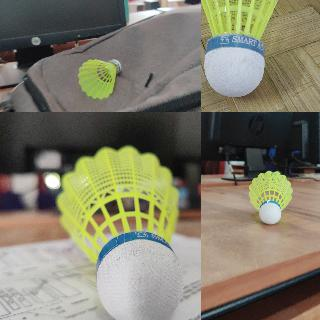shuttlecock: (56, 145, 183, 319), (201, 0, 296, 97), (247, 170, 293, 223), (77, 59, 121, 99)
